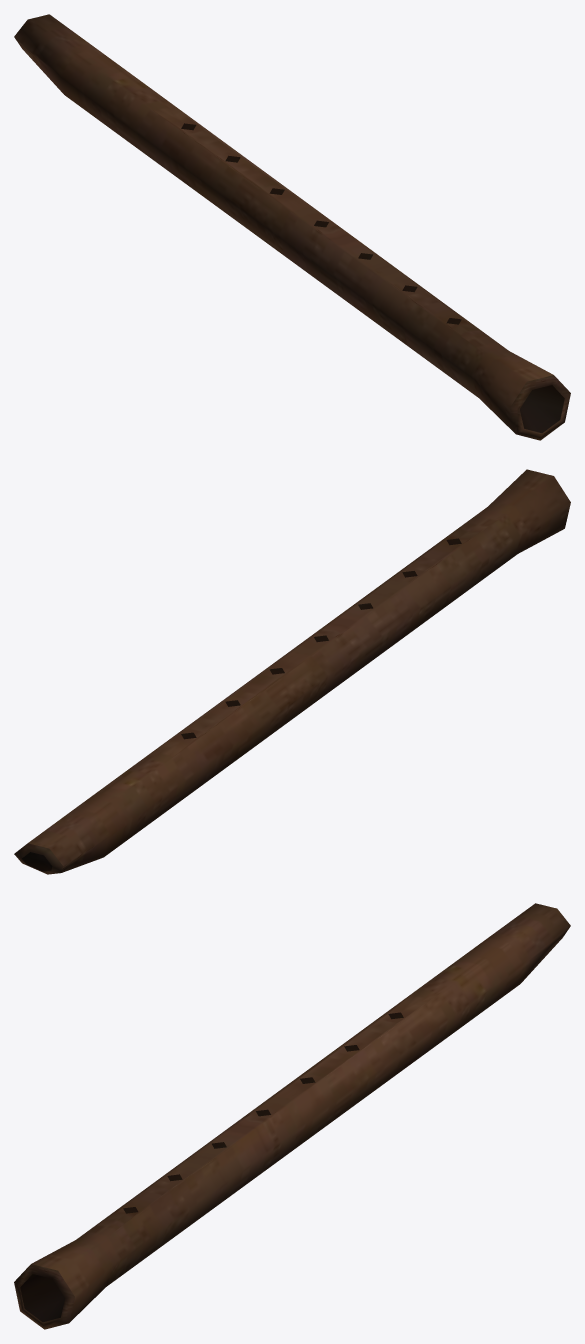
File: KM_FLUTE.glb
The picture shows the model from 3 angles, top to bottom: view 1: azimuth 30°, elevation 25°; view 2: azimuth 150°, elevation 25°; view 3: azimuth 330°, elevation 25°; orthographic projection.
Parts seen in each view (by area): view 1: Mesh; view 2: Mesh; view 3: Mesh.
Part boxes in pixels (box(x1,y1,x2,y2)): Mesh: box(14, 14, 570, 440); Mesh: box(14, 469, 570, 874); Mesh: box(14, 903, 570, 1329).
Bounding box in the file's own units: 0.0317 × 0.0309 × 0.453.
1 material, 1 textured.
